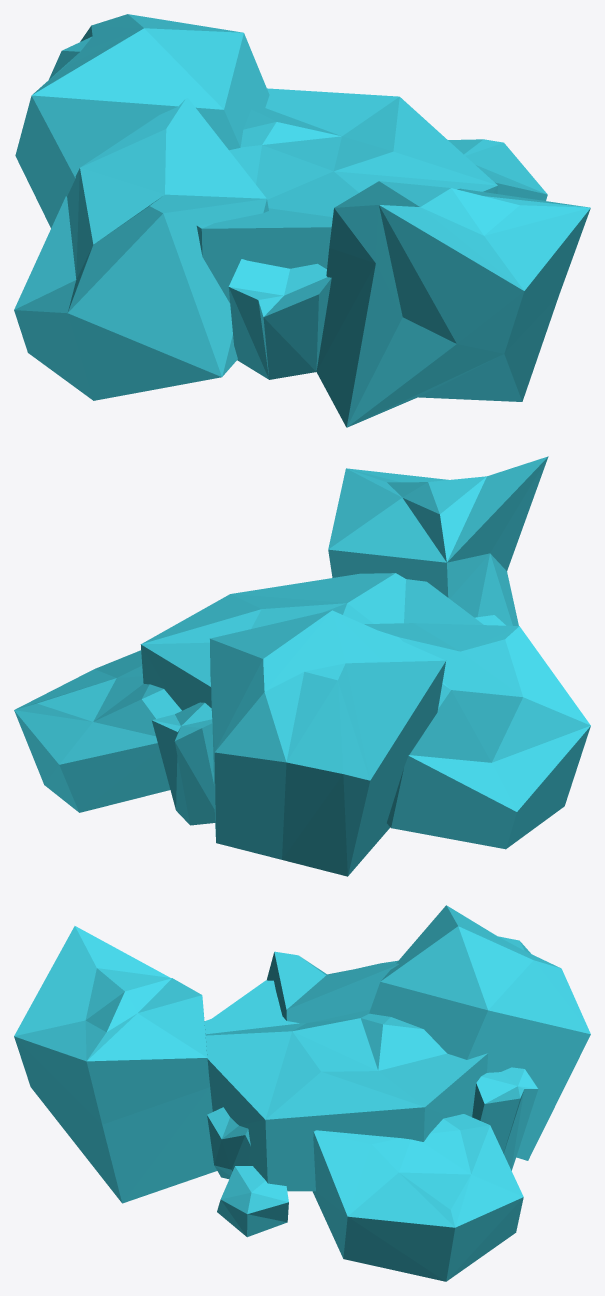
Rendered from Kristall_05.fbx.
The picture shows the model from 3 angles, top to bottom: view 1: azimuth 30°, elevation 25°; view 2: azimuth 150°, elevation 25°; view 3: azimuth 270°, elevation 25°; orthographic projection. The views are drawn at different scales.
Parts seen in each view (by area): view 1: Cylinder.009; view 2: Cylinder.009; view 3: Cylinder.009.
Boxes of the visible parts, x1=… form: Cylinder.009: x1=14, y1=14, x2=590, y2=427; Cylinder.009: x1=14, y1=456, x2=590, y2=876; Cylinder.009: x1=14, y1=905, x2=590, y2=1281.
Bounding box in the file's own units: 35.98 × 17.89 × 41.33.
